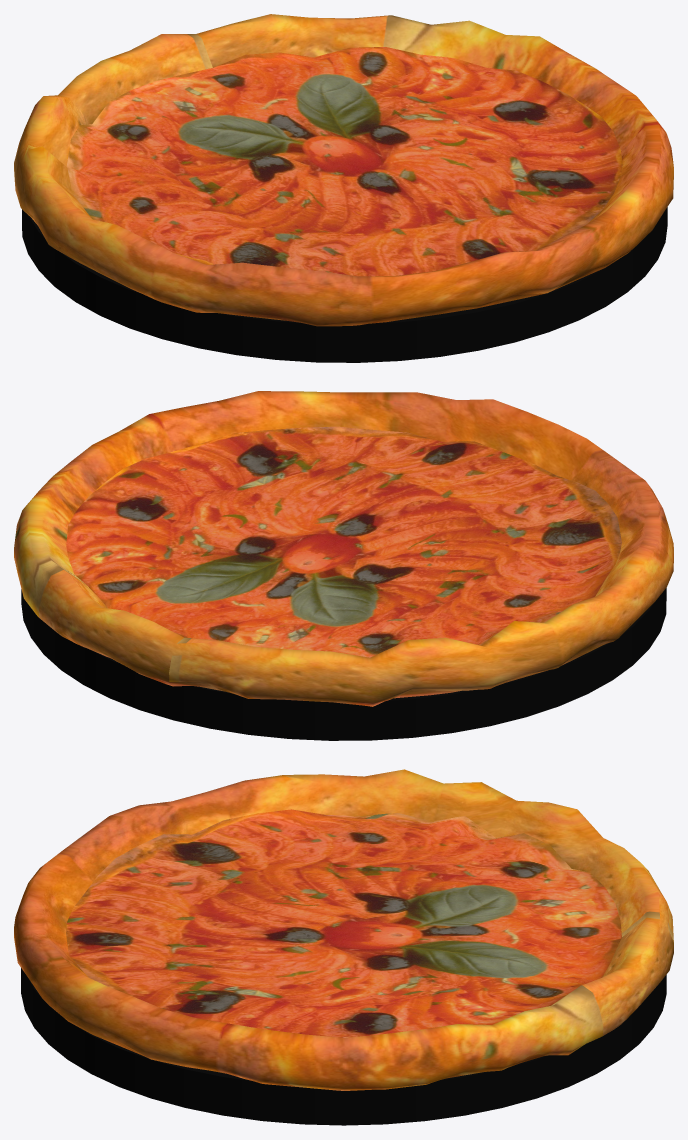
Rendered from pizza (1) (1).glb.
3 views of the same model, one above another, from view 1: azimuth 30°, elevation 25°; view 2: azimuth 150°, elevation 25°; view 3: azimuth 270°, elevation 25° (orthographic).
Parts seen in each view (by area): view 1: Object001_Material #25_0, Object001_Material #37_0, Cylinder002; view 2: Object001_Material #25_0, Object001_Material #37_0, Cylinder002; view 3: Object001_Material #25_0, Object001_Material #37_0, Cylinder002.
Boxes of the visible parts, x1,y1,x2,y2 form: Object001_Material #25_0: (66, 47, 622, 276); Object001_Material #37_0: (14, 14, 673, 326); Cylinder002: (22, 207, 667, 362); Object001_Material #25_0: (66, 426, 621, 657); Object001_Material #37_0: (14, 391, 673, 706); Cylinder002: (21, 588, 666, 740); Object001_Material #25_0: (66, 809, 621, 1037); Object001_Material #37_0: (14, 769, 673, 1090); Cylinder002: (21, 968, 666, 1125).
Bounding box in the file's own units: 0.3063 × 0.046 × 0.3064.
Materials: 3 (2 with a texture image).
